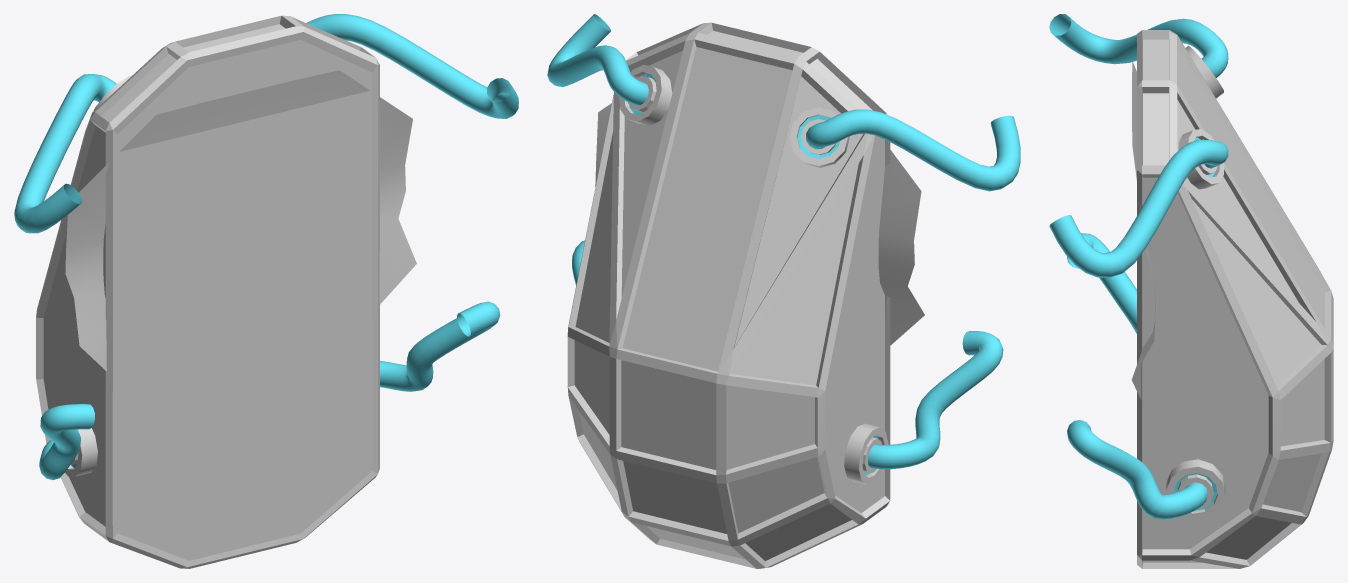
Rendered from Mod_BackPlate_Recon1.fbx.
3 renders of one model, left to right at view 1: azimuth 30°, elevation 25°; view 2: azimuth 150°, elevation 25°; view 3: azimuth 270°, elevation 25°, orthographic. The views are drawn at different scales.
Parts seen in each view (by area): view 1: Mod_BackPlate_Recon1; view 2: Mod_BackPlate_Recon1; view 3: Mod_BackPlate_Recon1.
Part boxes in pixels (x1,y1,x2,y2): Mod_BackPlate_Recon1: (14, 14, 518, 568); Mod_BackPlate_Recon1: (547, 14, 1020, 568); Mod_BackPlate_Recon1: (1049, 14, 1333, 568).
Bounding box in the file's own units: 466 × 468 × 248.
